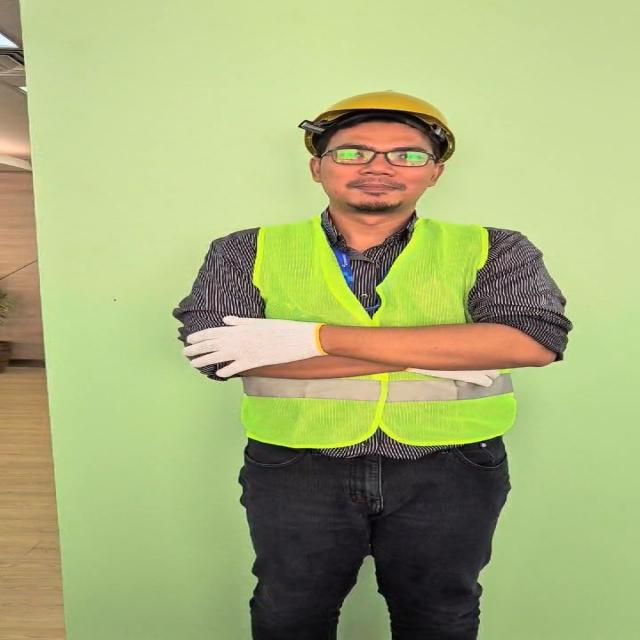goggles: (318, 144, 446, 169)
helmet: (300, 90, 456, 161)
safety_vest: (216, 220, 501, 448), (164, 311, 328, 378)
